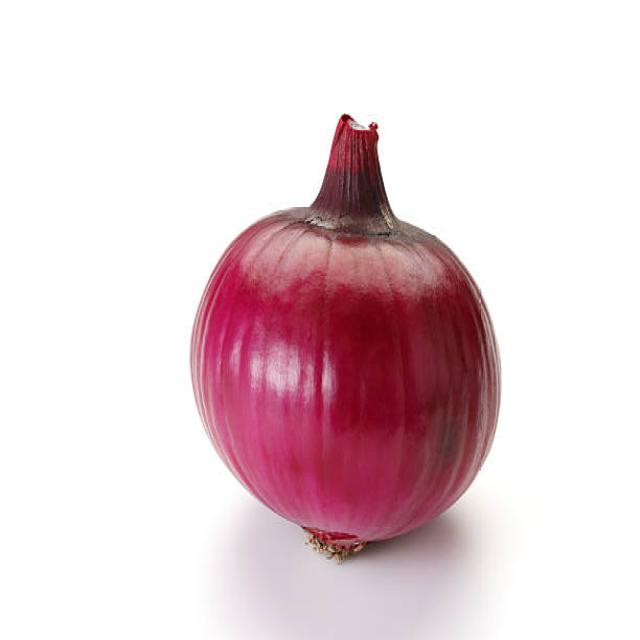onion: (186, 179, 509, 562)
